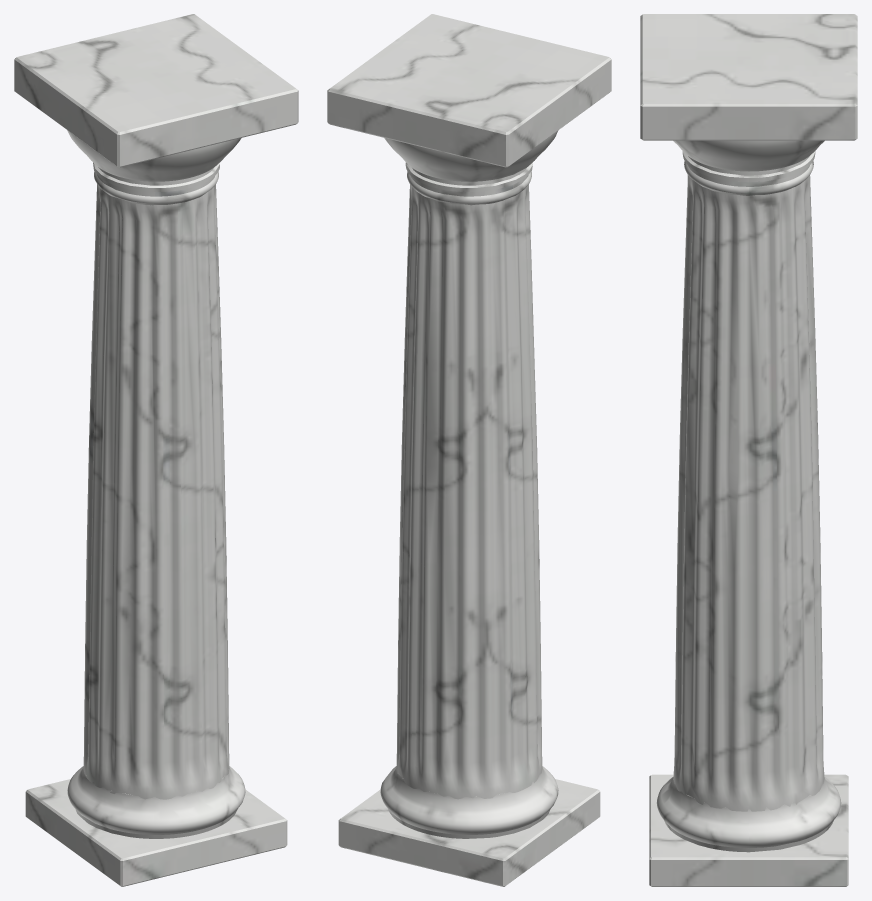
Rendered from mobile.glb.
3 renders of one model, left to right at view 1: azimuth 30°, elevation 25°; view 2: azimuth 150°, elevation 25°; view 3: azimuth 270°, elevation 25°, orthographic. The views are drawn at different scales.
Size of the model in its own units: 1 by 4 by 1.
Materials: 1 (1 with a texture image).
